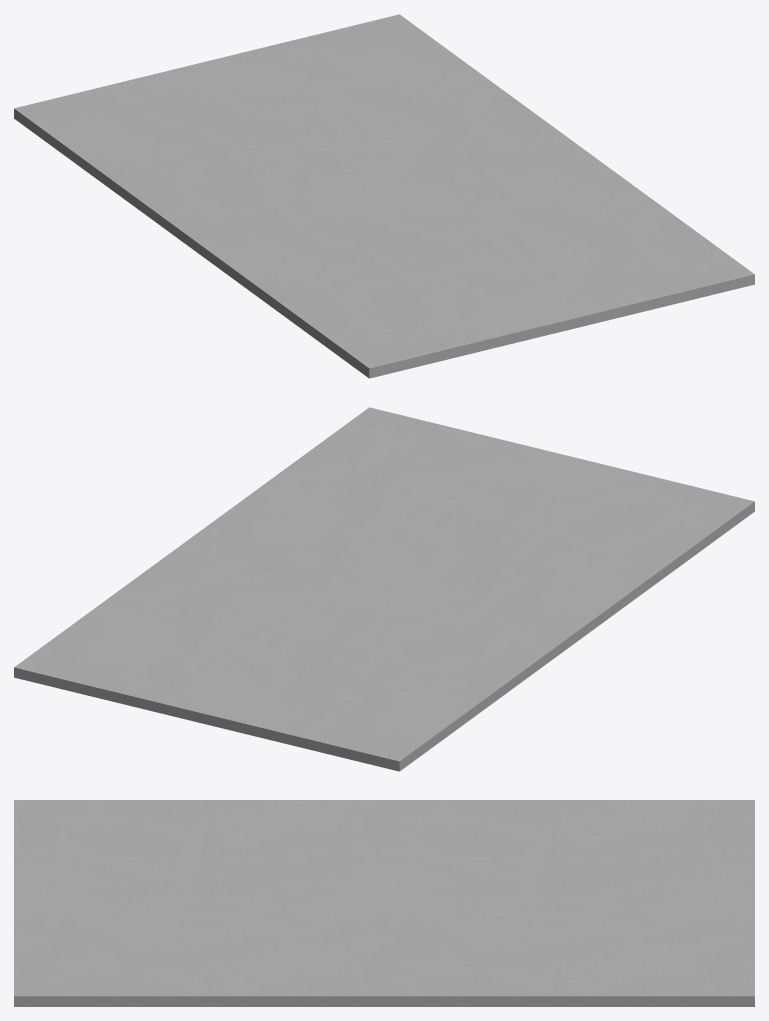
File: CR06_Ceiling.FBX
3 views of the same model, one above another, from view 1: azimuth 30°, elevation 25°; view 2: azimuth 150°, elevation 25°; view 3: azimuth 270°, elevation 25° (orthographic). The views are drawn at different scales.
Visible parts, largest first — view 1: CR06_Ceiling; view 2: CR06_Ceiling; view 3: CR06_Ceiling.
Part boxes in pixels (box(x1,y1,x2,y2)): CR06_Ceiling: box(14, 14, 754, 378); CR06_Ceiling: box(14, 407, 754, 771); CR06_Ceiling: box(14, 800, 754, 1006).
Size of the model in its own units: 7968 by 200 by 12719.
